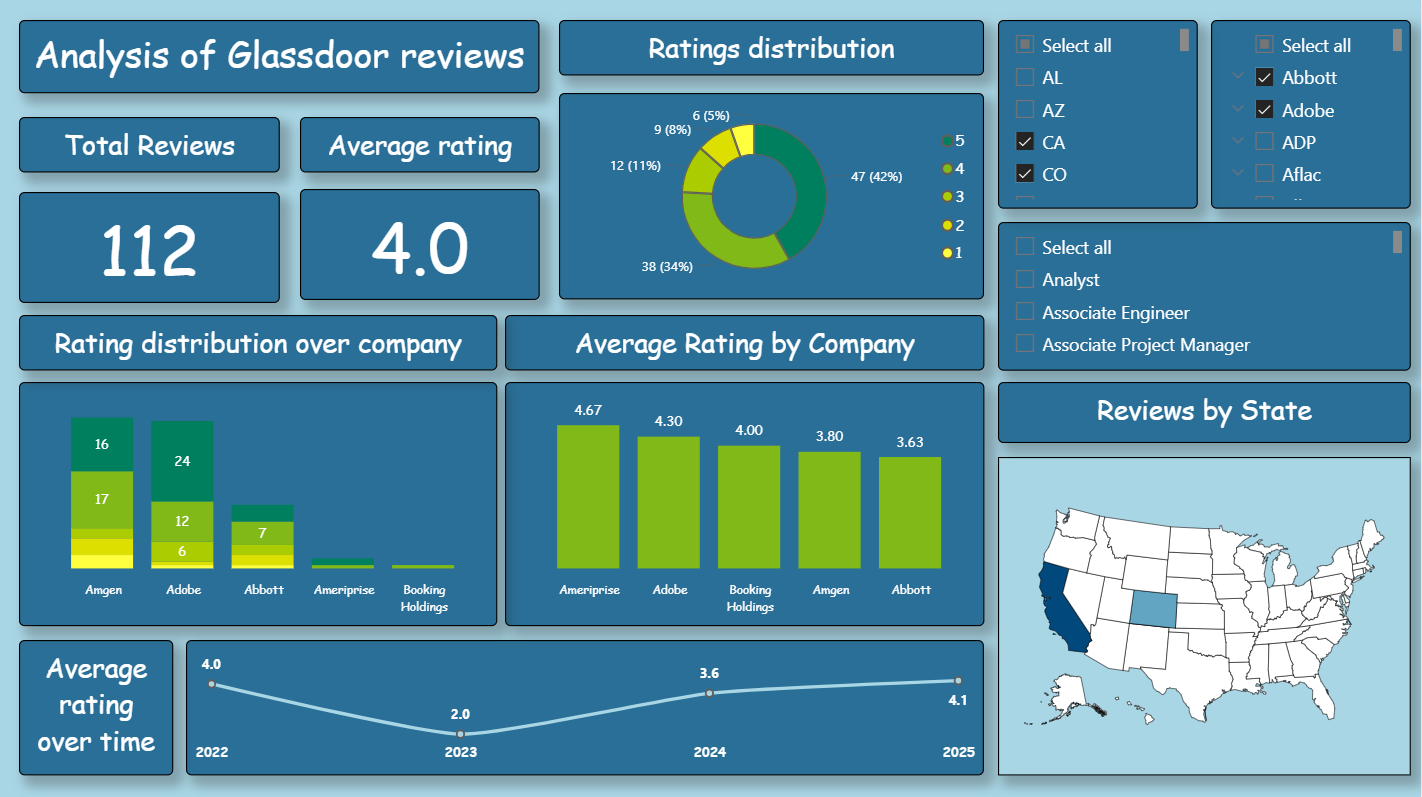

The page's visual inventory and layout, read from the dashboard file:
{"tool":"powerbi","page":{"name":"Dashboard","canvas":[1280,720],"ordinal":3},"visuals":[{"type":"textbox","box":[17,106,235,50],"z":0},{"type":"card","fields":{"Values":["CountNonNull(Glassdoor_reviews_analysis.Employeer ID)"]},"box":[17,174,235,100],"z":1},{"type":"textbox","box":[270,106,216,50],"z":2},{"type":"card","fields":{"Values":["Avg(Glassdoor_reviews_analysis.rating Overall)"]},"box":[270,171,216,100],"z":3},{"type":"textbox","box":[17,578,139,122],"z":4},{"type":"donutChart","fields":{"Y":["CountNonNull(Glassdoor_reviews_analysis.rating Overall)"],"Category":["Glassdoor_reviews_analysis.rating Overall"]},"box":[504,85,383,186],"z":5},{"type":"textbox","box":[504,19,383,50],"z":6},{"type":"textbox","box":[17,19,469,66],"z":7},{"type":"lineChart","fields":{"Y":["Avg(Glassdoor_reviews_analysis.rating Overall)"],"Category":["Glassdoor_reviews_analysis.year"]},"box":[168,578,719,122],"z":8},{"type":"textbox","box":[455,285,432,50],"z":9},{"type":"clusteredColumnChart","fields":{"Category":["Glassdoor_reviews_analysis.Employeer Name"],"Y":["Avg(Glassdoor_reviews_analysis.rating Overall)"]},"box":[455,345,432,220],"z":10},{"type":"slicer","fields":{"Values":["Glassdoor_reviews_analysis.Employeer Name","Glassdoor_reviews_analysis.rating Overall"]},"box":[1091,19,180,170],"z":11},{"type":"columnChart","fields":{"Category":["Glassdoor_reviews_analysis.Employeer Name"],"Y":["CountNonNull(Glassdoor_reviews_analysis.rating Overall)"],"Series":["Glassdoor_reviews_analysis.rating Overall"]},"box":[17,345,431,220],"z":12},{"type":"textbox","box":[17,285,431,50],"z":13},{"type":"slicer","fields":{"Values":["Glassdoor_reviews_analysis.job title"]},"box":[899,201,372,134],"z":14},{"type":"slicer","fields":{"Values":["Glassdoor_reviews_analysis.state"]},"box":[899,19,180,170],"z":15},{"type":"textbox","box":[899,345,372,55],"z":17},{"type":"shapeMap","fields":{"Category":["Glassdoor_reviews_analysis.state"],"Value":["Glassdoor_reviews_analysis.number_of_reviews"]},"box":[899,413,372,287],"z":18}]}

Visuals, with their boxes in screenshot pixels (x1, y1, x2, y2), scaled from the page's 1280x720 canvas onto the 1422x797 screenshot:
textbox: BBox(19, 117, 280, 173)
card - CountNonNull(Glassdoor_reviews_analysis.Employeer ID): BBox(19, 193, 280, 303)
textbox: BBox(300, 117, 540, 173)
card - Avg(Glassdoor_reviews_analysis.rating Overall): BBox(300, 189, 540, 300)
textbox: BBox(19, 640, 173, 775)
donutChart - CountNonNull(Glassdoor_reviews_analysis.rating Overall) x Glassdoor_reviews_analysis.rating Overall: BBox(560, 94, 985, 300)
textbox: BBox(560, 21, 985, 76)
textbox: BBox(19, 21, 540, 94)
lineChart - Avg(Glassdoor_reviews_analysis.rating Overall) x Glassdoor_reviews_analysis.year: BBox(187, 640, 985, 775)
textbox: BBox(505, 315, 985, 371)
clusteredColumnChart - Glassdoor_reviews_analysis.Employeer Name x Avg(Glassdoor_reviews_analysis.rating Overall): BBox(505, 382, 985, 625)
slicer - Glassdoor_reviews_analysis.Employeer Name x Glassdoor_reviews_analysis.rating Overall: BBox(1212, 21, 1412, 209)
columnChart - Glassdoor_reviews_analysis.Employeer Name x CountNonNull(Glassdoor_reviews_analysis.rating Overall): BBox(19, 382, 498, 625)
textbox: BBox(19, 315, 498, 371)
slicer - Glassdoor_reviews_analysis.job title: BBox(999, 222, 1412, 371)
slicer - Glassdoor_reviews_analysis.state: BBox(999, 21, 1199, 209)
textbox: BBox(999, 382, 1412, 443)
shapeMap - Glassdoor_reviews_analysis.state x Glassdoor_reviews_analysis.number_of_reviews: BBox(999, 457, 1412, 775)
